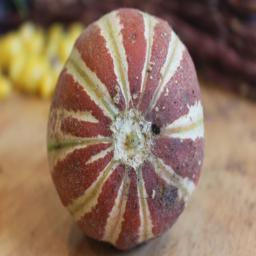Melon Rotten: (37, 1, 215, 256)
